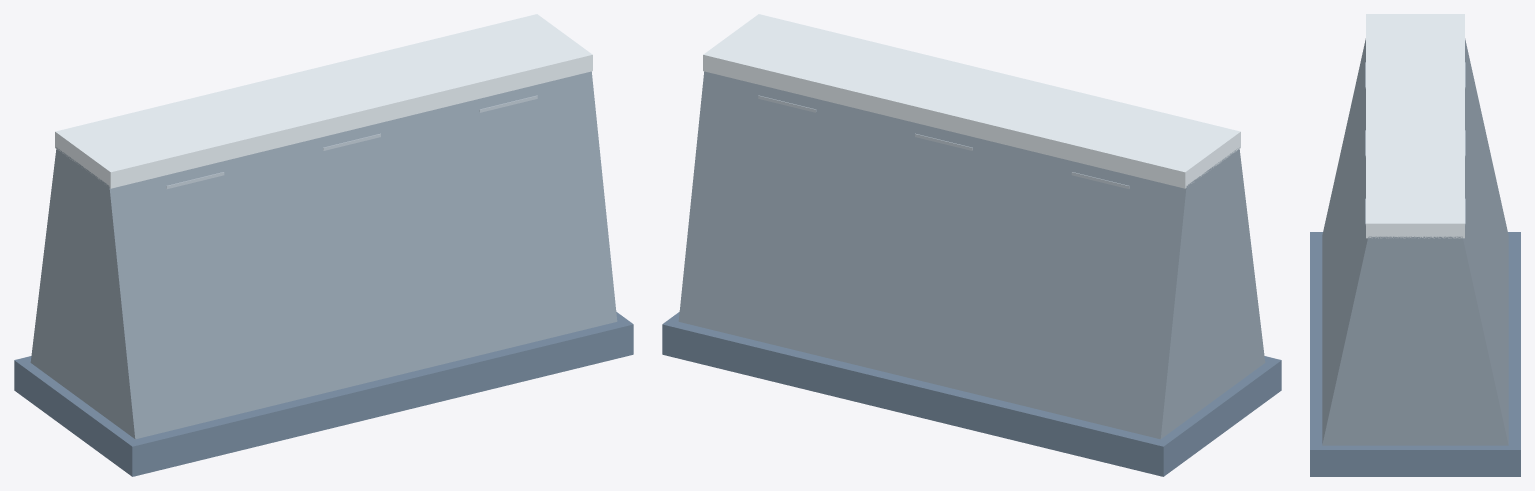
File: cover-barrier-snowy.glb
3 renders of one model, left to right at view 1: azimuth 30°, elevation 25°; view 2: azimuth 150°, elevation 25°; view 3: azimuth 270°, elevation 25°, orthographic. The views are drawn at different scales.
Parts seen in each view (by area): view 1: cover-barrier-kit-snowy-stone, cover-barrier-kit-snowy-top, cover-barrier-kit-snowy-shade, cover-barrier-kit-snowy-light; view 2: cover-barrier-kit-snowy-stone, cover-barrier-kit-snowy-top, cover-barrier-kit-snowy-shade, cover-barrier-kit-snowy-light; view 3: cover-barrier-kit-snowy-stone, cover-barrier-kit-snowy-top, cover-barrier-kit-snowy-shade.
Boxes of the visible parts, left/top/right/bottom form: cover-barrier-kit-snowy-stone: left=30, top=71, right=617, bottom=439; cover-barrier-kit-snowy-top: left=55, top=14, right=592, bottom=188; cover-barrier-kit-snowy-shade: left=14, top=312, right=633, bottom=476; cover-barrier-kit-snowy-light: left=166, top=95, right=537, bottom=188; cover-barrier-kit-snowy-stone: left=678, top=71, right=1265, bottom=439; cover-barrier-kit-snowy-top: left=703, top=14, right=1240, bottom=188; cover-barrier-kit-snowy-shade: left=662, top=312, right=1281, bottom=476; cover-barrier-kit-snowy-light: left=758, top=95, right=1129, bottom=188; cover-barrier-kit-snowy-stone: left=1322, top=38, right=1508, bottom=445; cover-barrier-kit-snowy-top: left=1366, top=14, right=1464, bottom=238; cover-barrier-kit-snowy-shade: left=1310, top=232, right=1520, bottom=476.
Bounding box in the file's own units: 2.08 × 1.11 × 0.85.
